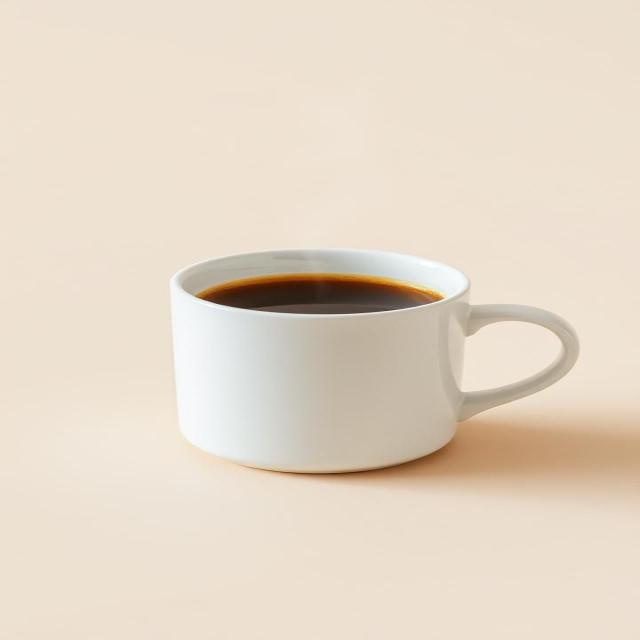glass cup: (168, 247, 580, 476)
